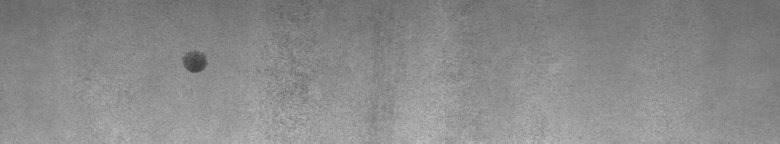fi: (176, 45, 212, 80)
